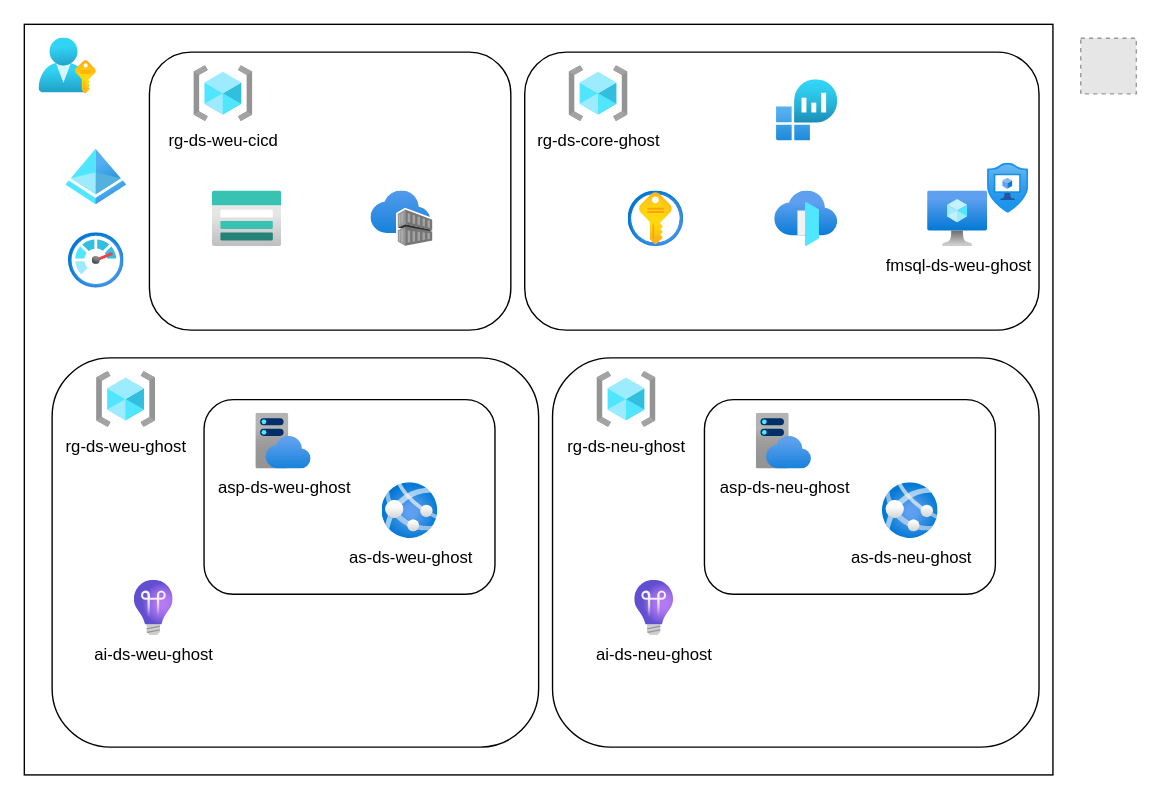
Some shapes in this 1161 by 799 pixel diagram are drawn without their labels. Grey dashed boxes stand in for pictures. The box of each missing label's shape, as (x1, y1, x2, y2) in pixels:
crdsweucicd01: (370, 190, 432, 246)
fd-ds-core-ghost: (774, 190, 837, 246)
kv-ds-weu-ghost: (628, 190, 683, 246)
la-ds-weu-ghost: (776, 79, 837, 140)
stodsweucicd01: (212, 190, 281, 246)
